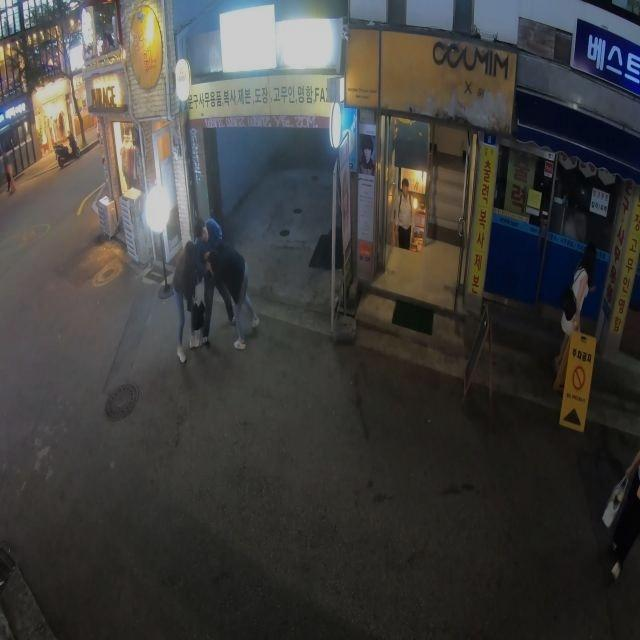fight: (170, 215, 260, 362)
